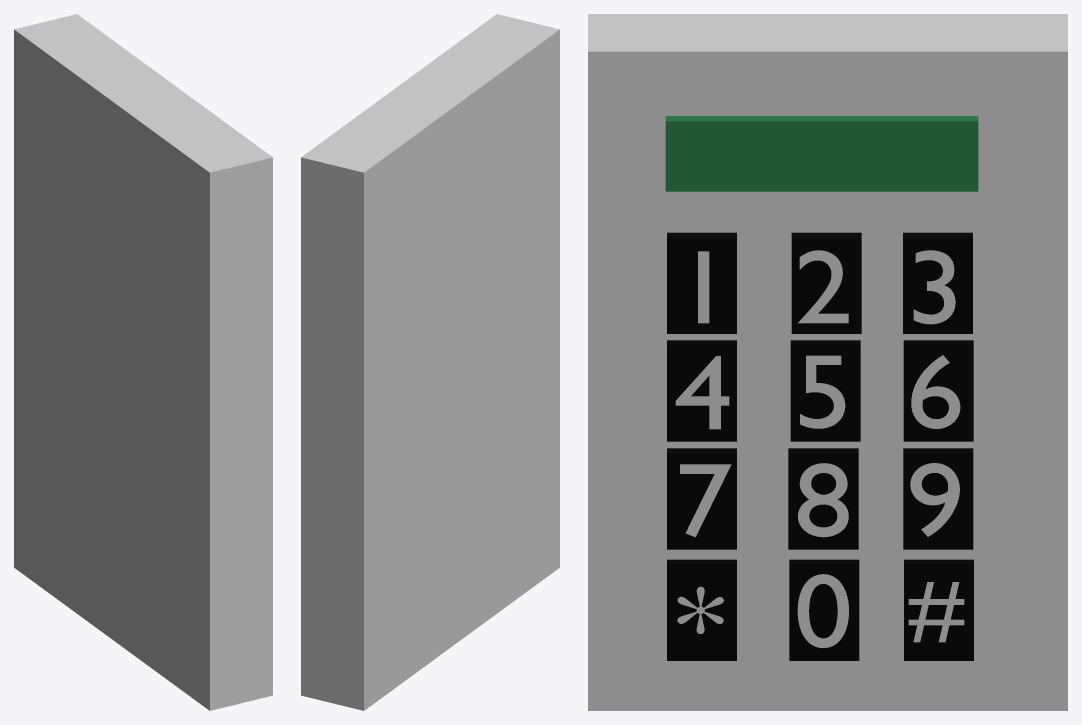
File: Keypad.glb
3 views of the same model, side by side, from view 1: azimuth 30°, elevation 25°; view 2: azimuth 150°, elevation 25°; view 3: azimuth 270°, elevation 25° (orthographic). The views are drawn at different scales.
Visible parts, largest first — view 1: Cube.004; view 2: Cube.004; view 3: Cube.004, Cube.017, Cube.008, Cube.005, Cube.007, Cube.016, Cube.009, Cube.010, Cube.013, Cube.006, Cube.014, Cube.015 (+14 smaller).
Boxes of the visible parts, <box> form: Cube.004: <box>14,14,272,710</box>; Cube.004: <box>301,14,559,710</box>; Cube.004: <box>588,14,1067,710</box>; Cube.017: <box>665,116,978,191</box>; Cube.008: <box>667,559,736,660</box>; Cube.005: <box>667,232,736,333</box>; Cube.007: <box>667,448,736,549</box>; Cube.016: <box>904,559,973,660</box>; Cube.009: <box>791,232,861,333</box>; Cube.010: <box>790,340,860,441</box>; Cube.013: <box>903,232,972,333</box>; Cube.006: <box>667,340,736,441</box>; Cube.014: <box>903,340,973,441</box>; Cube.015: <box>903,448,973,549</box>.
Bounding box in the file's own units: 0.0597 × 0.4264 × 0.2813.
